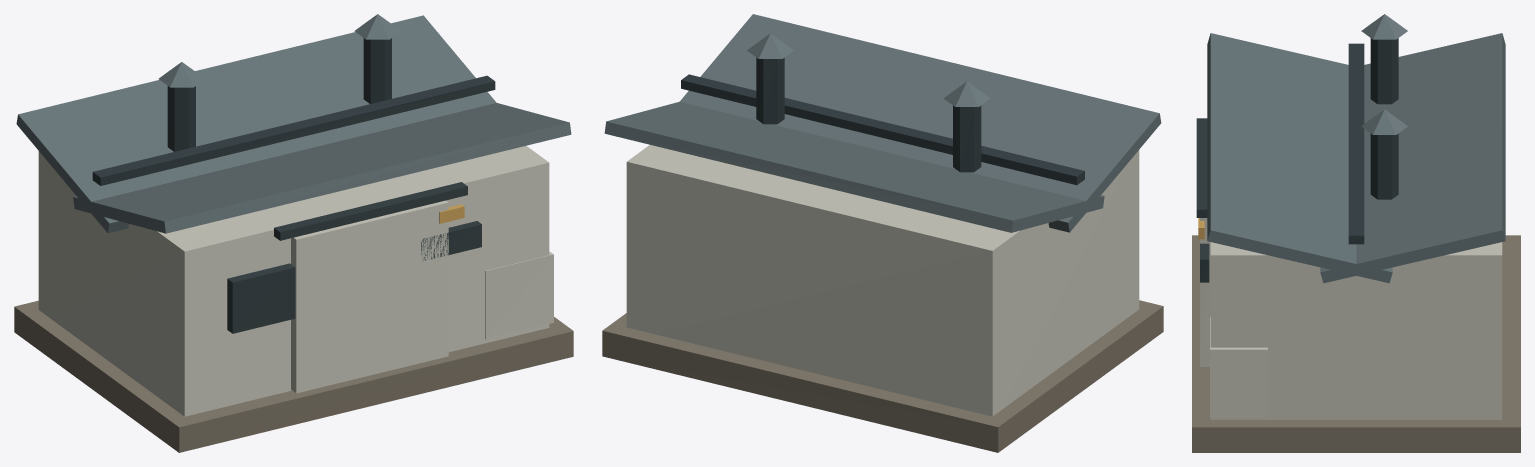
The model's file is Hatchery.glb.
The picture shows the model from 3 angles, left to right: view 1: azimuth 30°, elevation 25°; view 2: azimuth 150°, elevation 25°; view 3: azimuth 270°, elevation 25°; orthographic projection.
Visible parts, largest first — view 1: wind-pump-static-hatchery-insulated-panel, wind-pump-static-hatchery-galvanized-roof, wind-pump-static-hatchery-stone-curb, wind-pump-static-hatchery-dark-technical-trim; view 2: wind-pump-static-hatchery-insulated-panel, wind-pump-static-hatchery-galvanized-roof, wind-pump-static-hatchery-stone-curb, wind-pump-static-hatchery-dark-technical-trim; view 3: wind-pump-static-hatchery-galvanized-roof, wind-pump-static-hatchery-insulated-panel, wind-pump-static-hatchery-stone-curb, wind-pump-static-hatchery-dark-technical-trim.
Part boxes in pixels (<box>): wind-pump-static-hatchery-insulated-panel: <box>38,146,553,416</box>; wind-pump-static-hatchery-galvanized-roof: <box>16,14,571,233</box>; wind-pump-static-hatchery-stone-curb: <box>14,300,573,452</box>; wind-pump-static-hatchery-dark-technical-trim: <box>92,38,495,333</box>; wind-pump-static-hatchery-insulated-panel: <box>626,145,1139,416</box>; wind-pump-static-hatchery-galvanized-roof: <box>604,14,1161,232</box>; wind-pump-static-hatchery-stone-curb: <box>602,300,1163,452</box>; wind-pump-static-hatchery-dark-technical-trim: <box>681,57,1084,185</box>; wind-pump-static-hatchery-galvanized-roof: <box>1207,14,1505,283</box>; wind-pump-static-hatchery-insulated-panel: <box>1200,218,1502,419</box>; wind-pump-static-hatchery-stone-curb: <box>1192,235,1520,452</box>; wind-pump-static-hatchery-dark-technical-trim: <box>1196,38,1398,282</box>.
Bounding box in the file's own units: 2.98 × 2.08 × 2.1.
